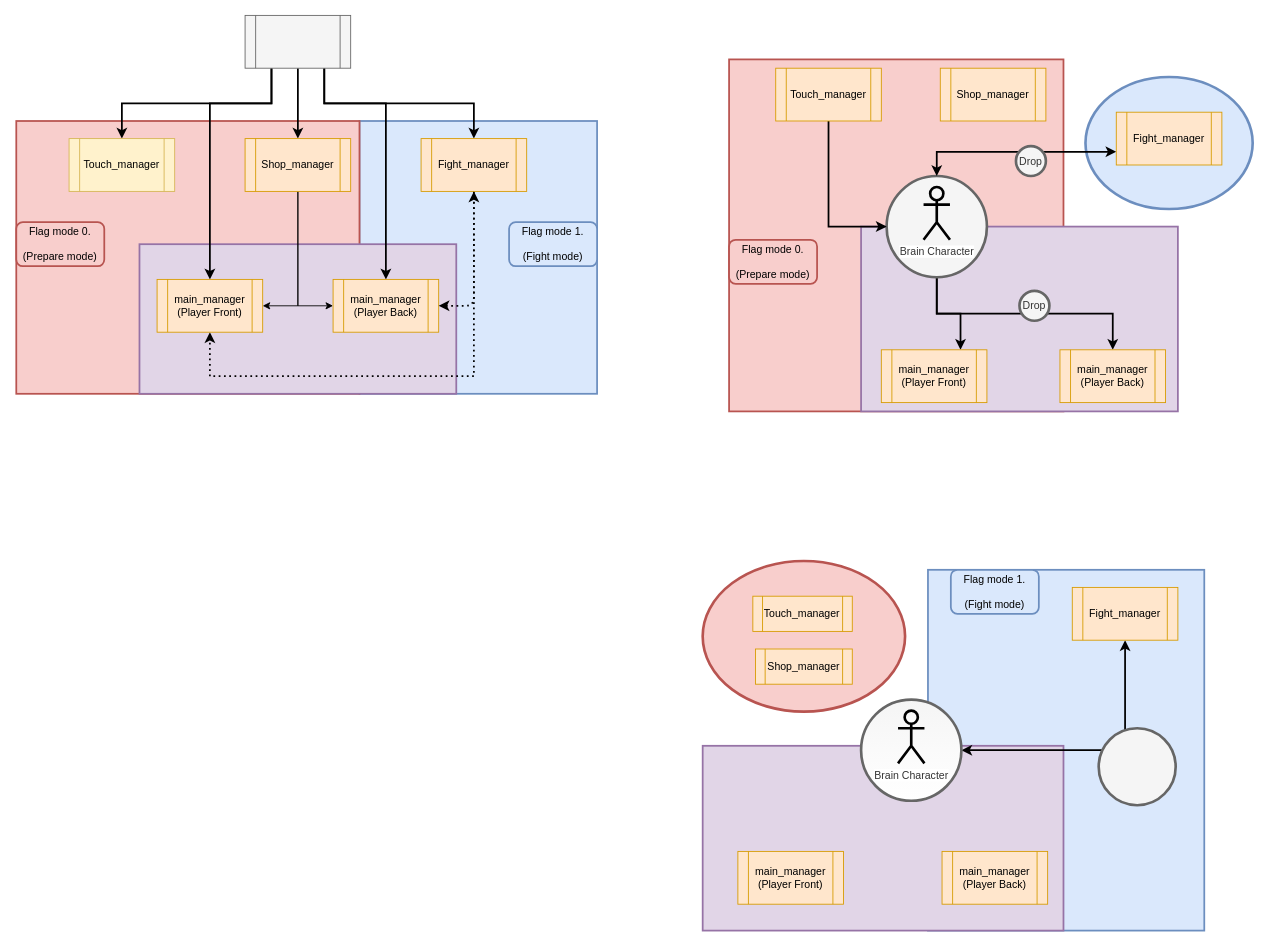
The diagram is 1269 pixels wide and 947 high, and some of its shapes have lost their labels. Each missing label, with the centre of its shape:
"- Set cible - Start moving" belongs at pixel 1137 766.
"Game Manager" belongs at pixel 297 41.
